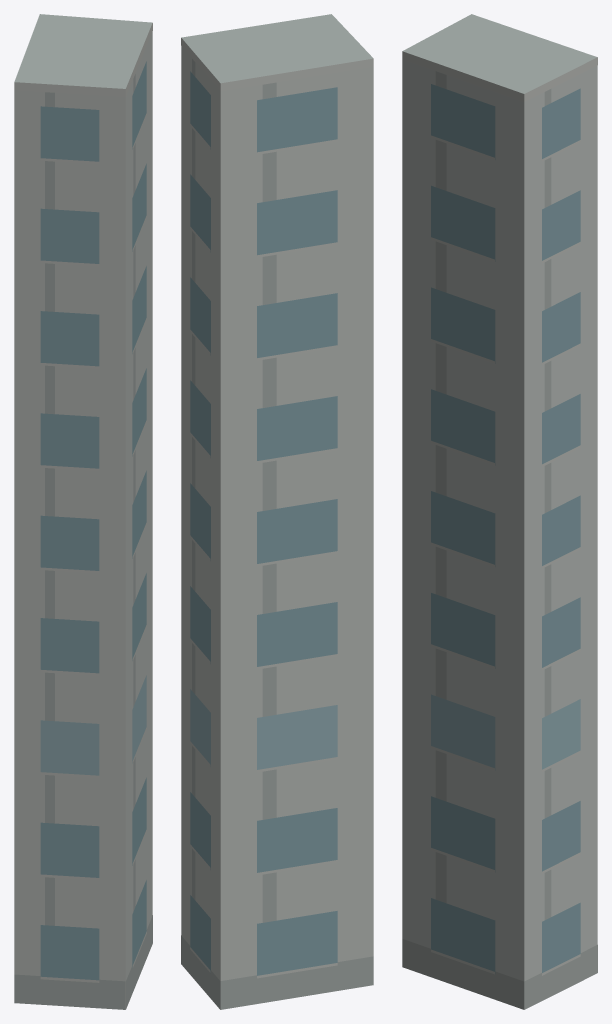
File: survey-upis-32819200.glb
3 views of the same model, side by side, from view 1: azimuth 30°, elevation 25°; view 2: azimuth 150°, elevation 25°; view 3: azimuth 270°, elevation 25° (orthographic).
Visible parts, largest first — view 1: survey-upis-32819200.tmp; view 2: survey-upis-32819200.tmp; view 3: survey-upis-32819200.tmp.
Part boxes in pixels (bbox=[...]): survey-upis-32819200.tmp: bbox=[14, 14, 152, 1009]; survey-upis-32819200.tmp: bbox=[181, 14, 373, 1009]; survey-upis-32819200.tmp: bbox=[402, 14, 597, 1009].
Size of the model in its own units: 5.15 by 27.45 by 5.32.
